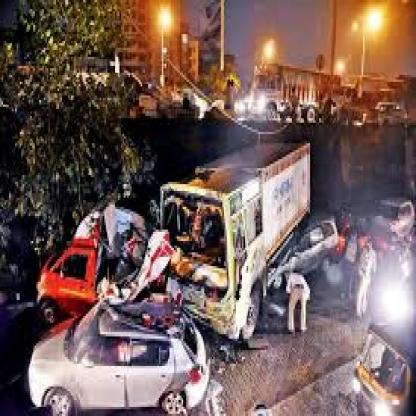accident: (26, 133, 324, 416)
